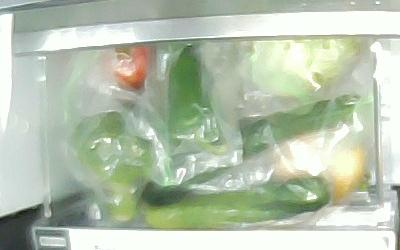apple_vinyl: (103, 47, 151, 91)
broccoli_vinyl: (70, 110, 152, 222)
cucumber_vinyl: (141, 92, 361, 206), (143, 176, 330, 231)
grapefruit_vinyl: (272, 129, 366, 201)
lettuce_vinyl: (236, 36, 361, 95)
paprika_vinyl: (168, 45, 228, 155)
